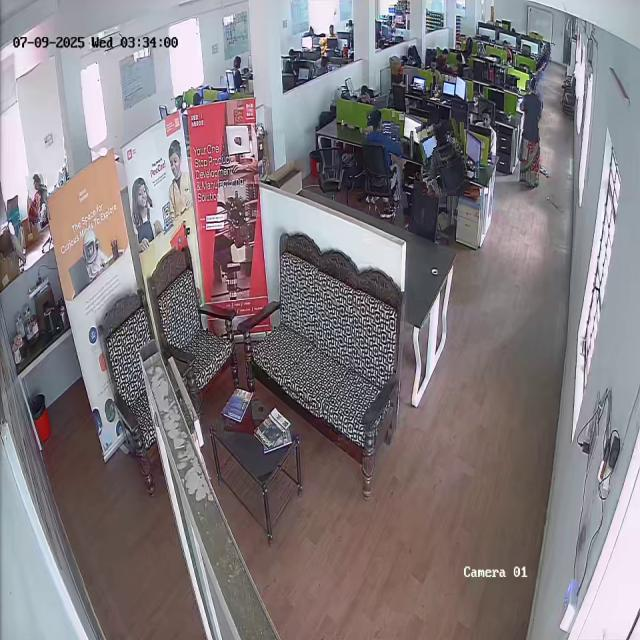person: (361, 109, 405, 212), (419, 120, 468, 198), (518, 80, 546, 196), (27, 174, 49, 222), (533, 42, 552, 94)
